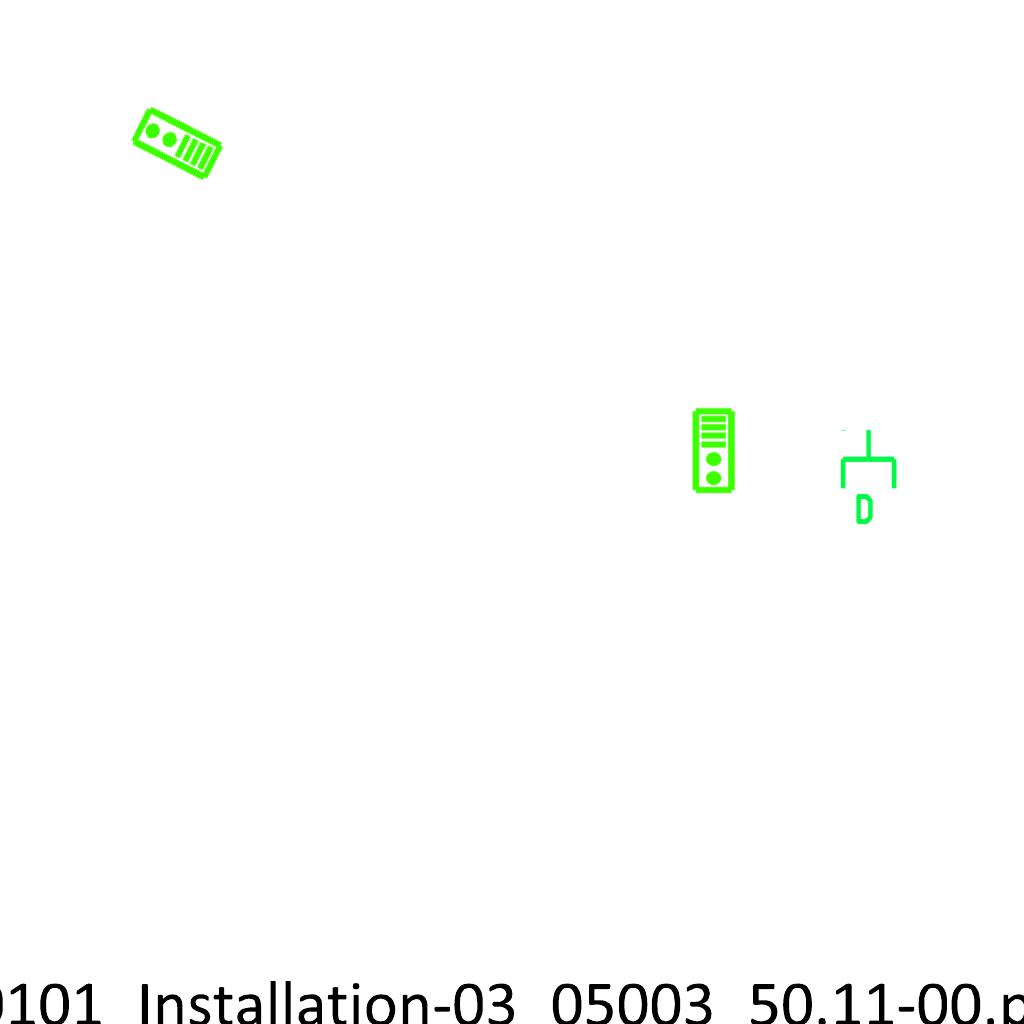Datenanschluss_einfach: (836, 427, 905, 527)
Gegensprechanlage_mit_Video: (126, 103, 227, 185), (691, 407, 738, 495)
